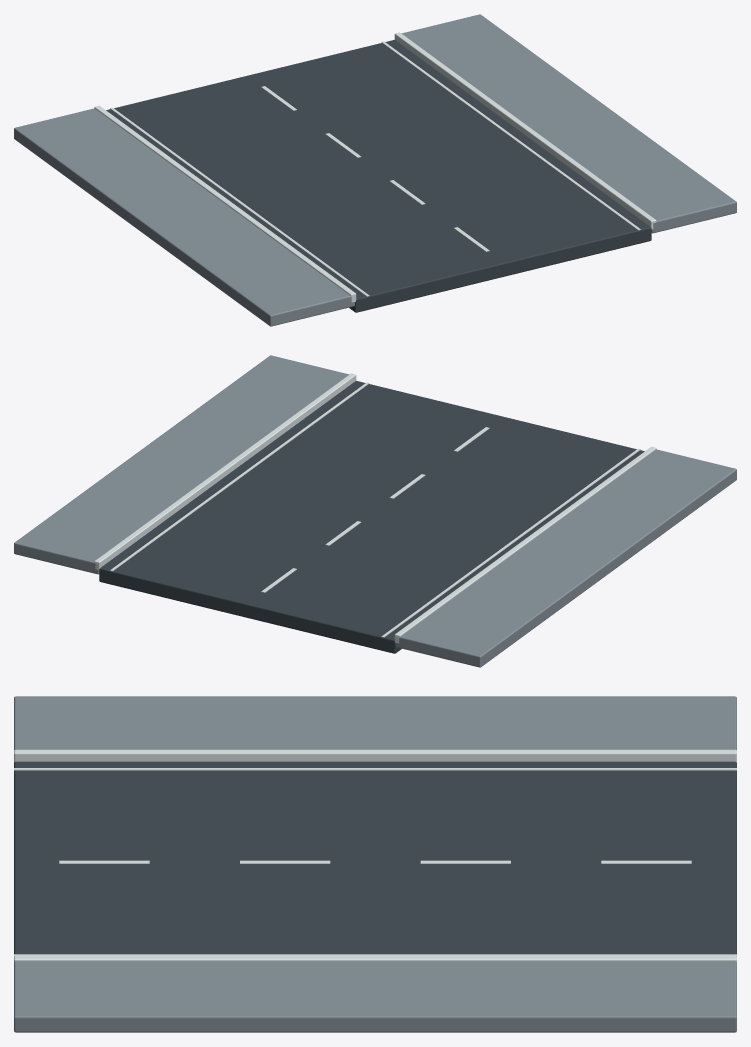
File: Road_Straight12.fbx
3 views of the same model, one above another, from view 1: azimuth 30°, elevation 25°; view 2: azimuth 150°, elevation 25°; view 3: azimuth 270°, elevation 25° (orthographic). The views are drawn at different scales.
Visible parts, largest first — view 1: Road_Deck, Sidewalk, Sidewalk.001, Curb.001, Curb, Edge_Line, Edge_Line.001; view 2: Road_Deck, Sidewalk, Sidewalk.001, Curb.001, Curb, Edge_Line, Edge_Line.001; view 3: Road_Deck, Sidewalk.001, Sidewalk, Curb, Curb.001, Edge_Line, Edge_Line.001.
Boxes of the visible parts, <box> form: Road_Deck: <box>106,40,651,312</box>; Sidewalk: <box>14,108,354,326</box>; Sidewalk.001: <box>401,14,736,233</box>; Curb.001: <box>394,32,656,229</box>; Curb: <box>94,105,356,302</box>; Edge_Line: <box>110,107,369,296</box>; Edge_Line.001: <box>381,41,640,230</box>; Road_Deck: <box>99,381,644,653</box>; Sidewalk: <box>396,449,736,667</box>; Sidewalk.001: <box>14,355,349,574</box>; Curb.001: <box>94,373,356,570</box>; Curb: <box>394,446,656,643</box>; Edge_Line: <box>381,448,640,637</box>; Edge_Line.001: <box>110,382,369,571</box>; Road_Deck: <box>14,761,736,954</box>; Sidewalk.001: <box>14,961,736,1032</box>; Sidewalk: <box>14,696,736,749</box>; Curb: <box>14,749,736,762</box>; Curb.001: <box>14,956,736,961</box>; Edge_Line: <box>14,768,736,770</box>; Edge_Line.001: <box>14,954,736,956</box>.
Size of the model in its own units: 1260 by 51.5 by 1200.
